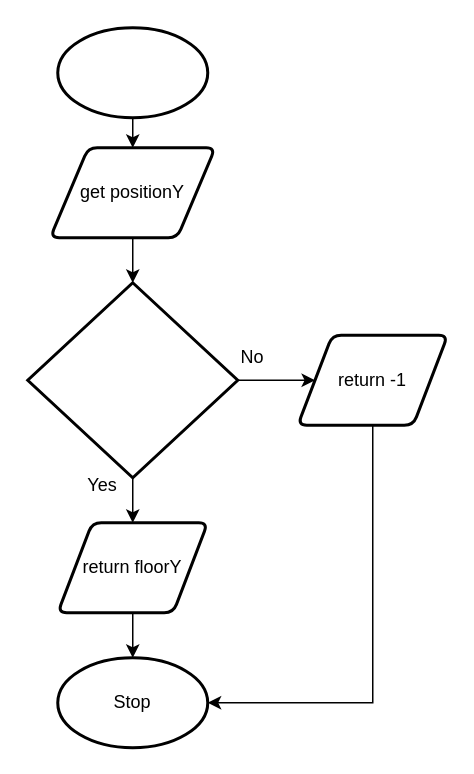
This 474x774 diagram has some shape labels left out. Here are the shapes that lost their labels. From the top down, the box of each, then its label:
(56, 26, 208, 118): Start
(26, 280, 238, 478): if (positionY >= floorY)
